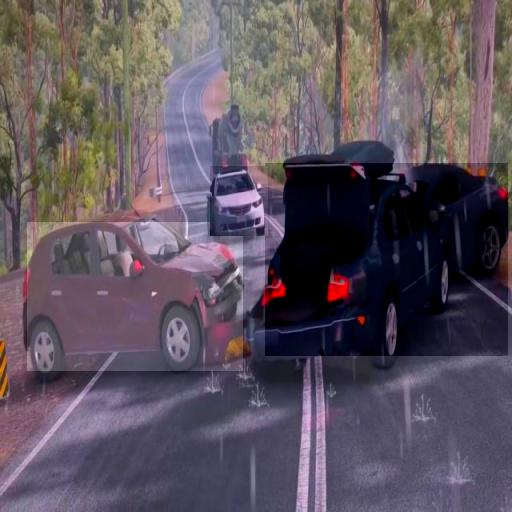小汽车: (27, 222, 243, 371), (210, 166, 268, 236)
小汽车撞小汽车: (265, 163, 508, 356)
